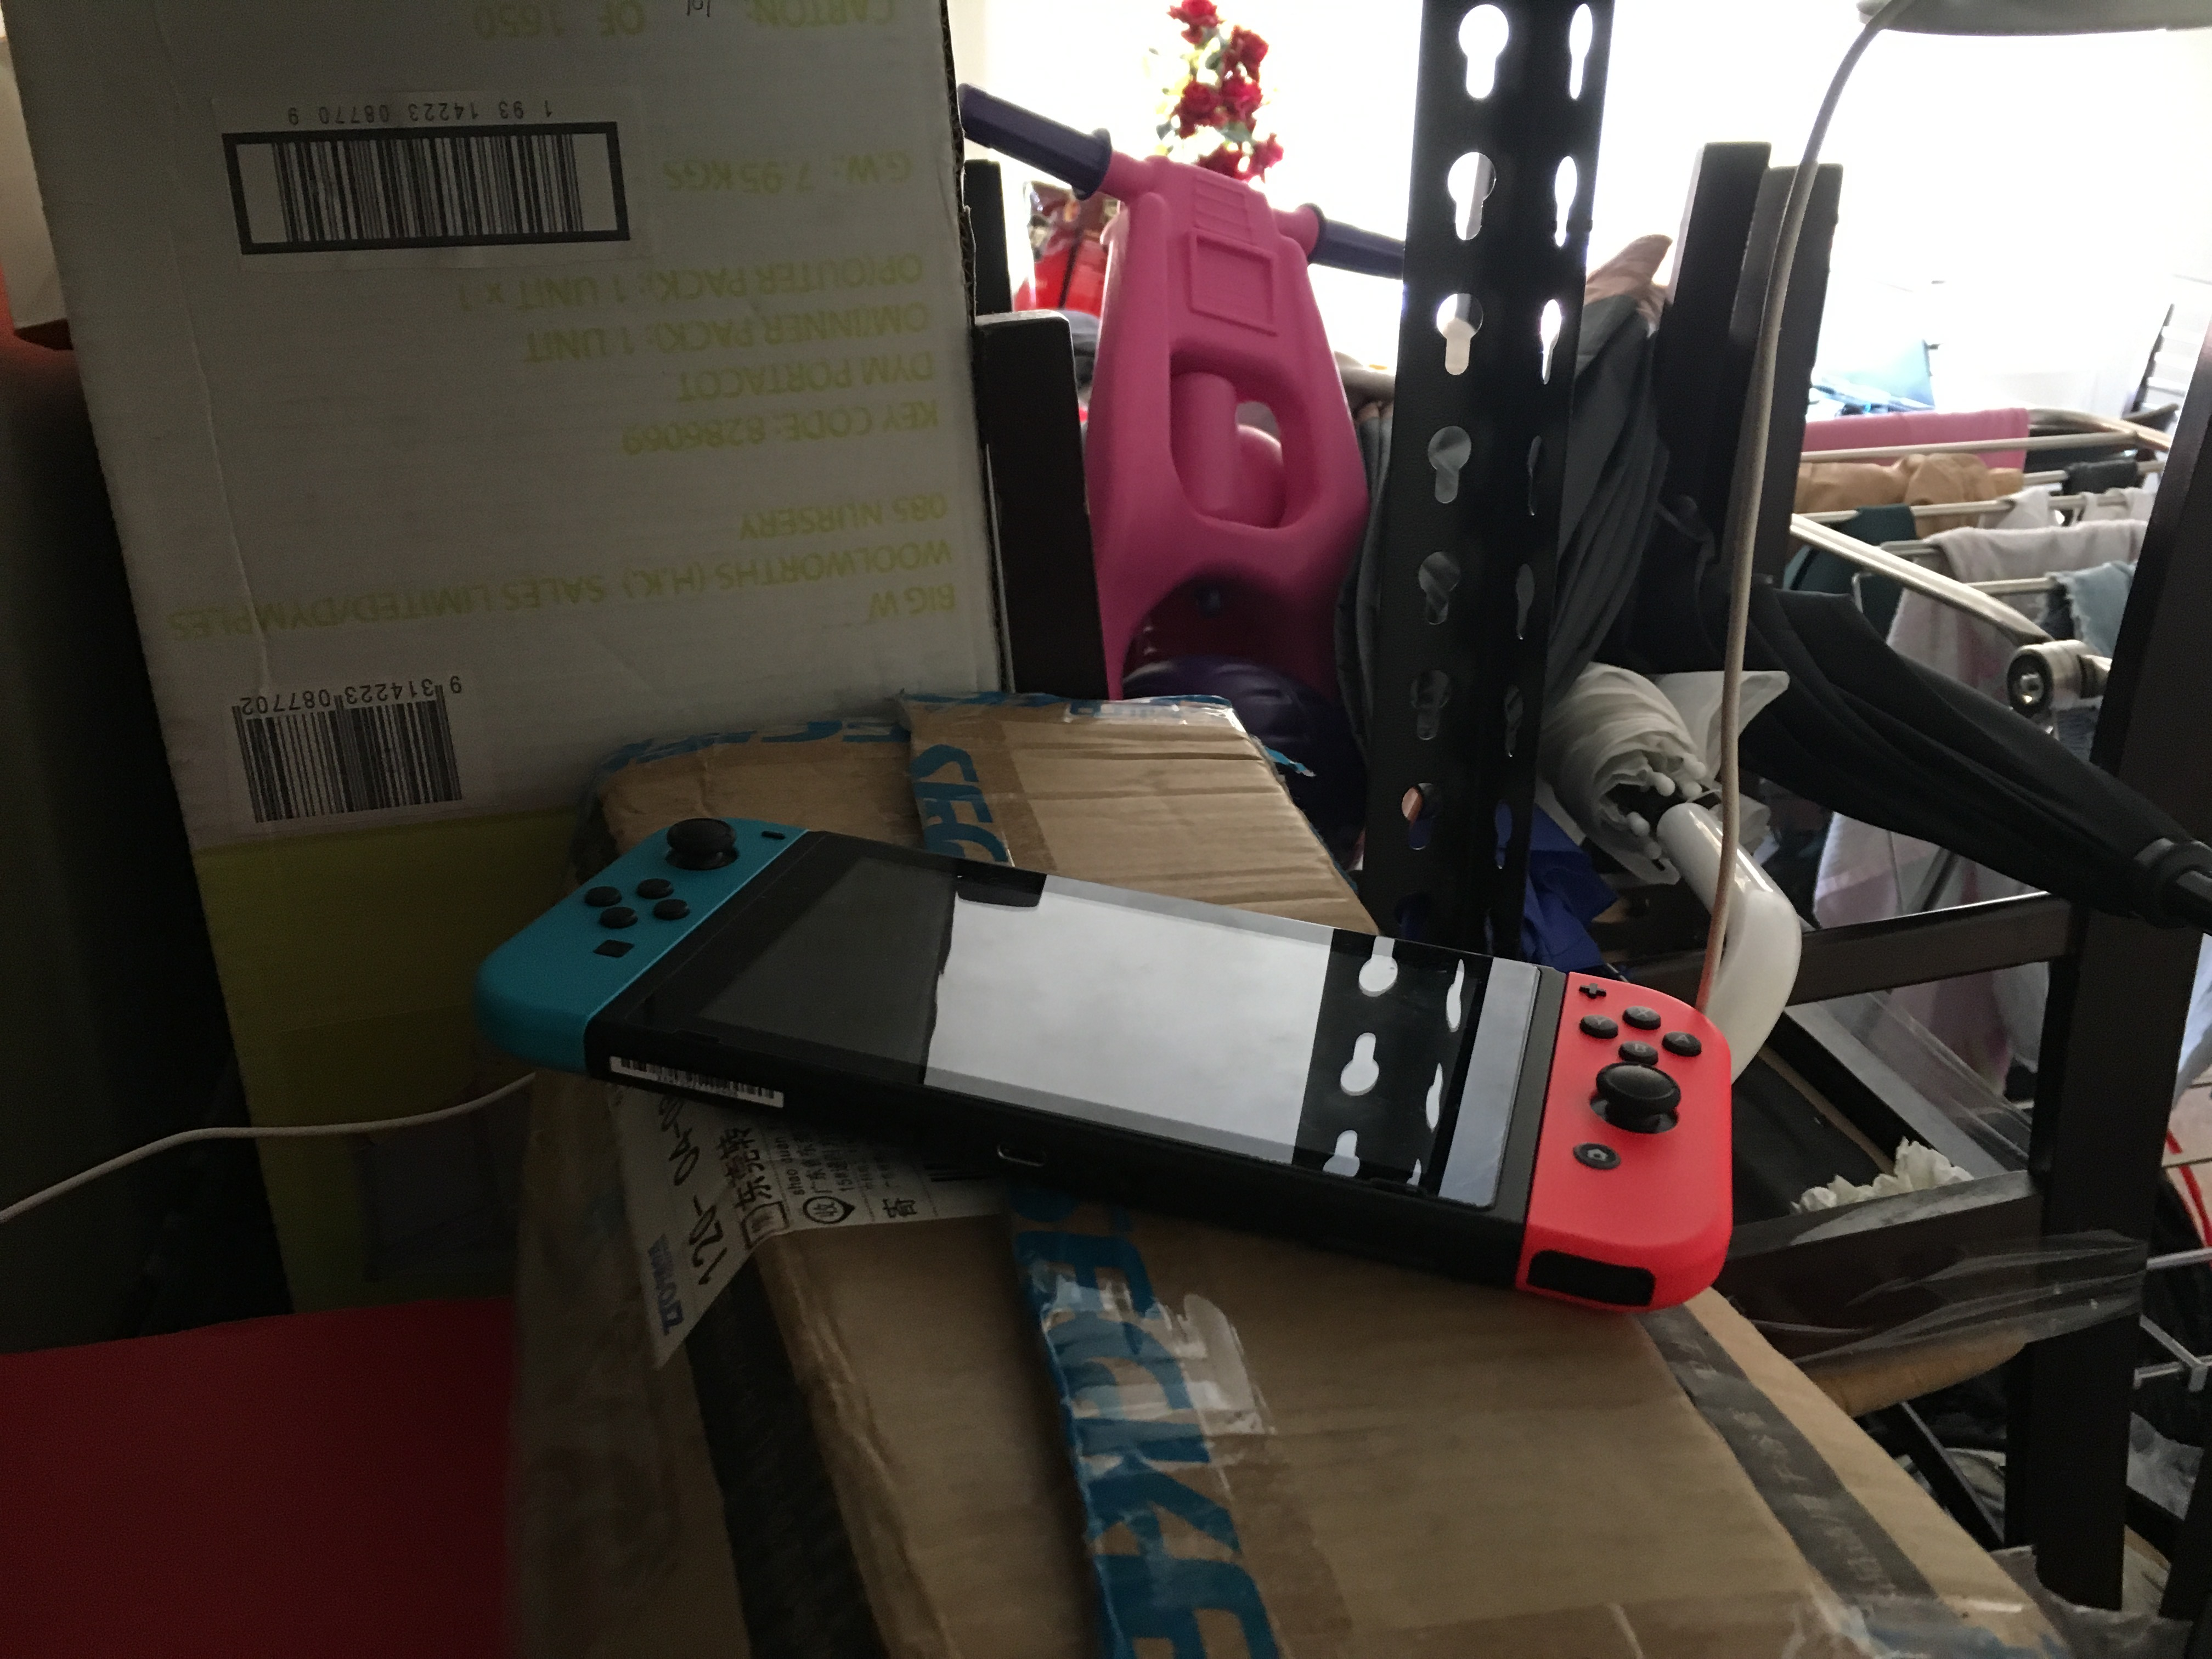NintendoSwitch: (455, 803, 1757, 1330)
